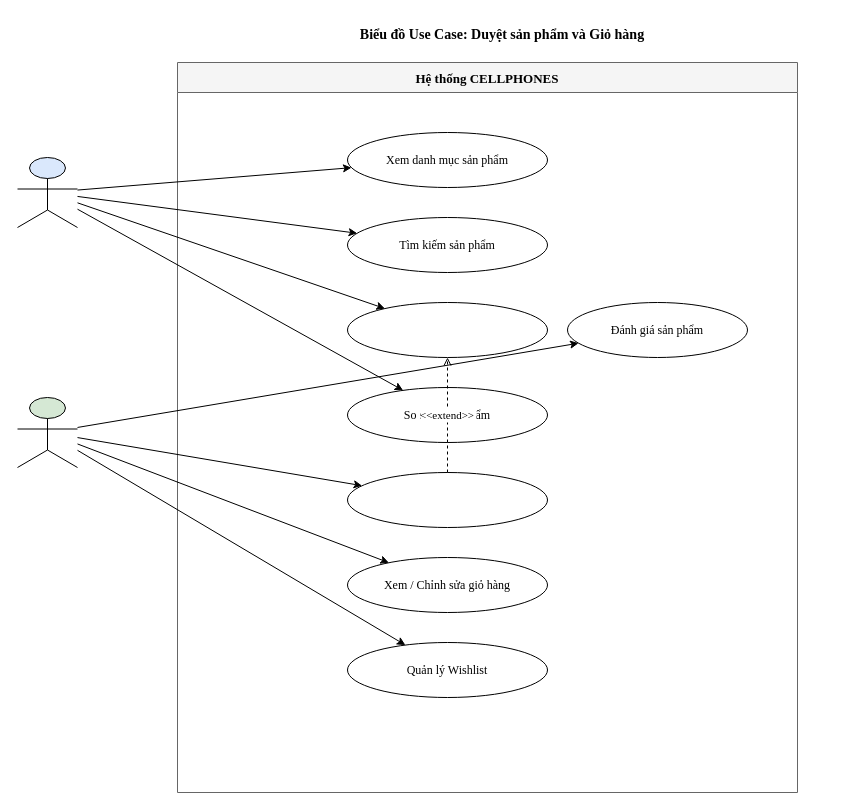
This 845x810 diagram has some shape labels left out. Each missing label, with the centre of its shape:
Customer: the point at 47,432
Guest: the point at 47,192
Thêm vào giỏ hàng: the point at 447,500
Xem chi tiết sản phẩm: the point at 447,330
